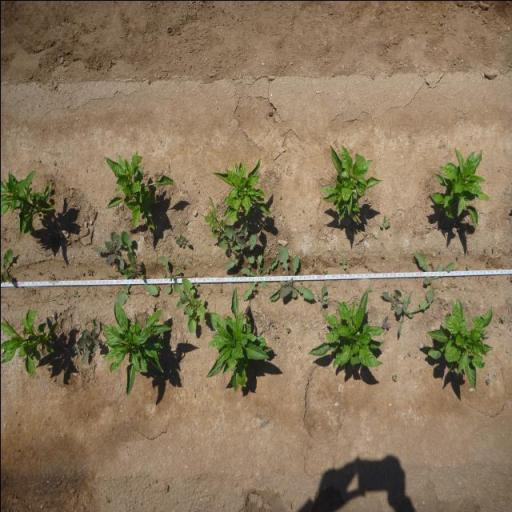plant: (425, 295, 495, 392), (307, 288, 386, 373), (102, 304, 173, 398), (99, 149, 176, 230), (206, 302, 268, 394), (428, 144, 490, 234), (319, 142, 382, 223), (0, 306, 60, 378), (0, 167, 58, 237), (214, 161, 274, 224)
weed: (117, 230, 158, 304), (271, 241, 313, 306), (412, 248, 455, 302), (170, 277, 208, 334), (240, 254, 280, 302), (222, 222, 256, 269), (398, 289, 431, 337), (70, 314, 100, 365), (200, 198, 225, 254), (92, 230, 124, 271), (158, 254, 182, 294), (379, 288, 403, 314), (0, 249, 16, 282), (315, 284, 328, 306), (174, 233, 190, 249), (378, 213, 390, 229), (381, 313, 391, 329), (338, 258, 347, 270), (70, 289, 79, 298), (47, 270, 54, 280), (481, 327, 487, 338), (428, 260, 434, 271), (270, 322, 278, 330), (86, 267, 94, 275), (390, 373, 397, 382), (319, 268, 329, 274), (347, 260, 354, 268), (301, 262, 308, 269), (484, 262, 490, 270), (296, 343, 302, 351), (78, 269, 84, 277), (192, 269, 198, 277), (500, 315, 506, 322), (406, 349, 411, 357), (30, 286, 35, 294), (464, 264, 470, 270), (485, 378, 490, 384), (311, 268, 317, 273), (285, 326, 290, 332), (273, 334, 279, 339), (332, 255, 336, 262), (368, 284, 372, 290), (310, 260, 313, 267), (220, 287, 222, 293)
